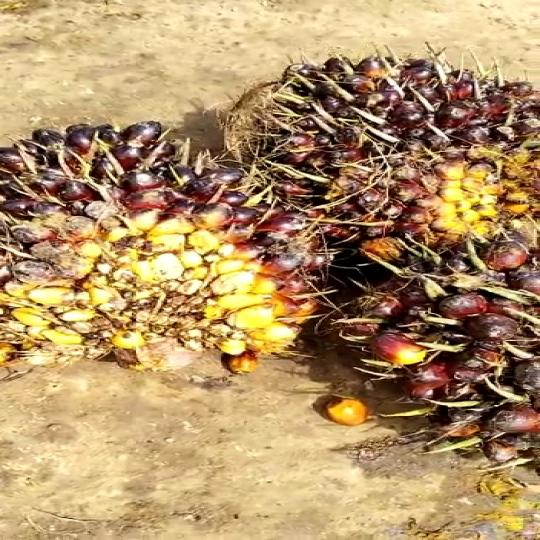kurang masak: (0, 125, 340, 382), (209, 49, 540, 253), (291, 217, 540, 480)
